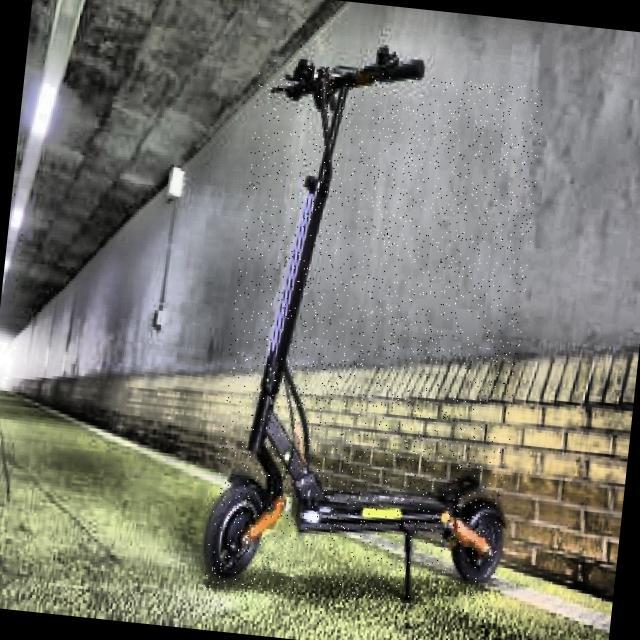bike: (202, 41, 507, 602)
